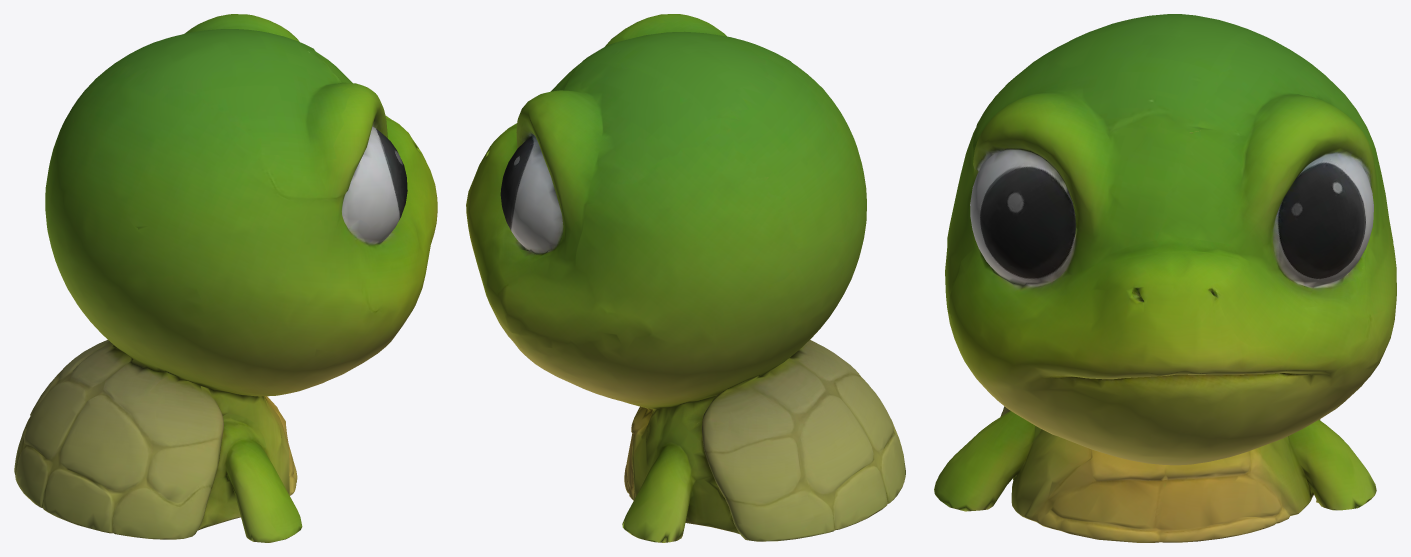
File: head.glb
3 views of the same model, side by side, from view 1: azimuth 30°, elevation 25°; view 2: azimuth 150°, elevation 25°; view 3: azimuth 270°, elevation 25° (orthographic). The views are drawn at different scales.
Parts seen in each view (by area): view 1: tripo_node_950d476a-b757-4d3a-8796-721ddea9fc5f; view 2: tripo_node_950d476a-b757-4d3a-8796-721ddea9fc5f; view 3: tripo_node_950d476a-b757-4d3a-8796-721ddea9fc5f.
Part boxes in pixels (box(x1,y1,x2,y2)): tripo_node_950d476a-b757-4d3a-8796-721ddea9fc5f: box(14, 14, 437, 542); tripo_node_950d476a-b757-4d3a-8796-721ddea9fc5f: box(466, 14, 905, 542); tripo_node_950d476a-b757-4d3a-8796-721ddea9fc5f: box(934, 14, 1396, 542).
Bounding box in the file's own units: 1 × 0.9977 × 0.8652.
1 material, 1 textured.
